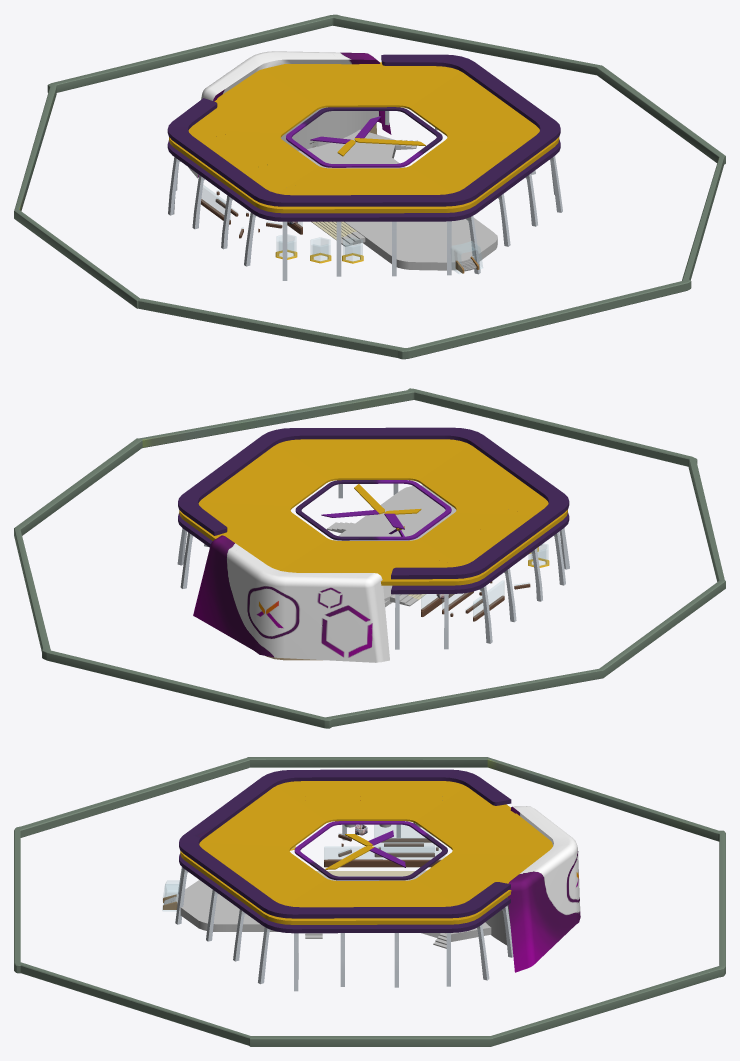
File: MDL_Estructure_V00.fbx
3 views of the same model, one above another, from view 1: azimuth 30°, elevation 25°; view 2: azimuth 150°, elevation 25°; view 3: azimuth 270°, elevation 25° (orthographic). The views are drawn at different scales.
Parts seen in each view (by area): view 1: cielingext, bushes1, cielingext2, bushes, floorHexa, cielingext1, wallAuditorioBack, exterioraudi, cielingext4, GateCristal; view 2: cielingext, wallAuditorioBack, bushes1, cielingext2, bushes, floorHexa, cielingext1, cielingext4; view 3: cielingext, bushes1, cielingext2, wallAuditorioBack, bushes, cielingext1, floorHexa, cielingext4, pCylinder43, pCylinder26, pCylinder41, pCylinder47 (+1 smaller).
Part boxes in pixels (x1=…): cielingext: x1=169, y1=62, x2=559, y2=213; bushes1: x1=14, y1=14, x2=725, y2=308; cielingext2: x1=167, y1=54, x2=560, y2=206; bushes: x1=138, y1=155, x2=724, y2=359; floorHexa: x1=298, y1=129, x2=497, y2=270; cielingext1: x1=167, y1=139, x2=560, y2=221; wallAuditorioBack: x1=188, y1=51, x2=391, y2=178; exterioraudi: x1=281, y1=107, x2=379, y2=151; cielingext4: x1=286, y1=107, x2=442, y2=167; GateCristal: x1=451, y1=241, x2=482, y2=273; cielingext: x1=179, y1=439, x2=567, y2=585; wallAuditorioBack: x1=193, y1=535, x2=389, y2=662; bushes1: x1=14, y1=438, x2=725, y2=728; cielingext2: x1=178, y1=427, x2=569, y2=579; bushes: x1=138, y1=388, x2=724, y2=581; floorHexa: x1=333, y1=485, x2=456, y2=606; cielingext1: x1=178, y1=513, x2=569, y2=594; cielingext4: x1=295, y1=480, x2=451, y2=540; cielingext: x1=180, y1=781, x2=552, y2=924; bushes1: x1=247, y1=757, x2=725, y2=1046; cielingext2: x1=179, y1=769, x2=511, y2=918; wallAuditorioBack: x1=508, y1=806, x2=580, y2=972; bushes: x1=14, y1=757, x2=250, y2=1045; cielingext1: x1=179, y1=853, x2=510, y2=933; floorHexa: x1=175, y1=876, x2=491, y2=941; cielingext4: x1=294, y1=821, x2=447, y2=880; pCylinder43: x1=324, y1=846, x2=445, y2=859; pCylinder26: x1=375, y1=838, x2=434, y2=852; pCylinder41: x1=324, y1=861, x2=438, y2=867; pCylinder47: x1=374, y1=825, x2=433, y2=838.
Size of the model in its own units: 7823 by 1092 by 8343.
